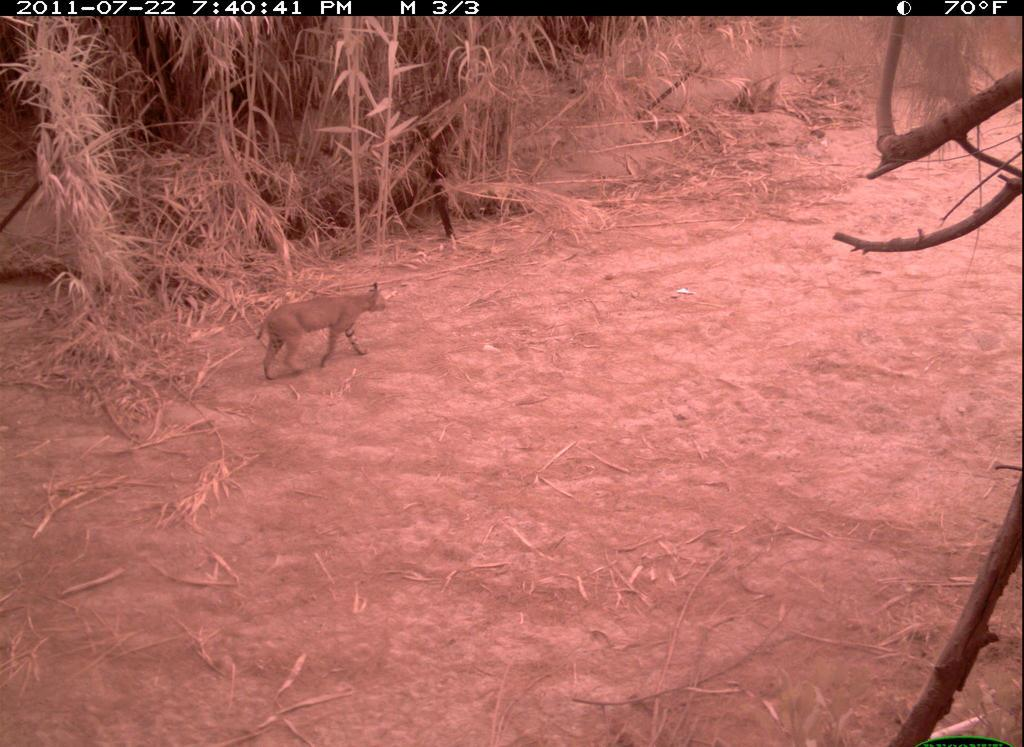bobcat: (255, 282, 390, 379)
